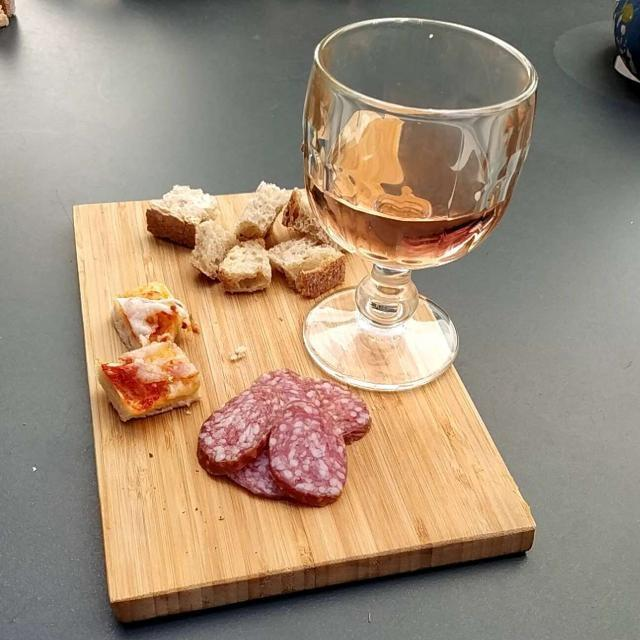bread: (156, 190, 329, 294)
pizza: (100, 283, 207, 426)
salami: (196, 370, 362, 509)
wine: (314, 120, 492, 246)
